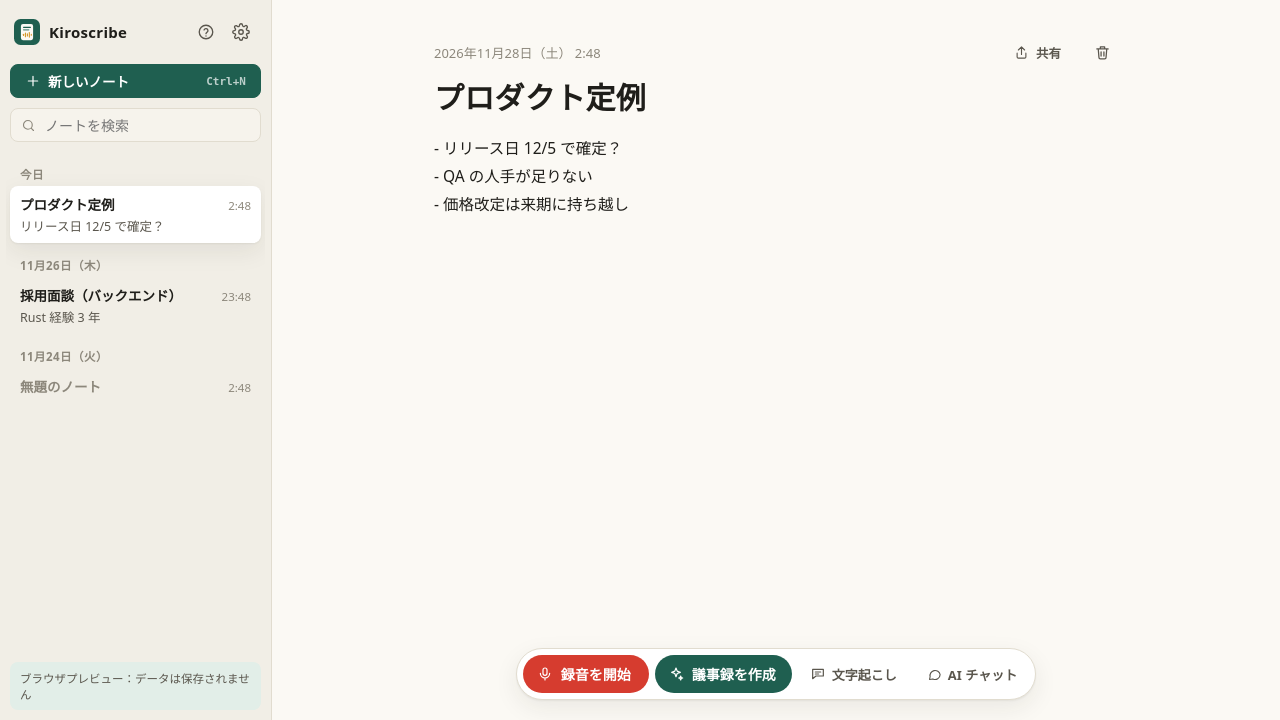
Test: 録音: 文字起こしのパネル › [TRN-020] 文字起こしがまだないときは、録音しているかどうかで案内を変える
This screenshot has width=1280, height=720.
Expected: the field showing "プロダクト定例" is shown, top-left (434, 74), bottom-right (1118, 121)
Click the button "文字起こし".
click(853, 674)  # box top-left (798, 656), bottom-right (909, 692)
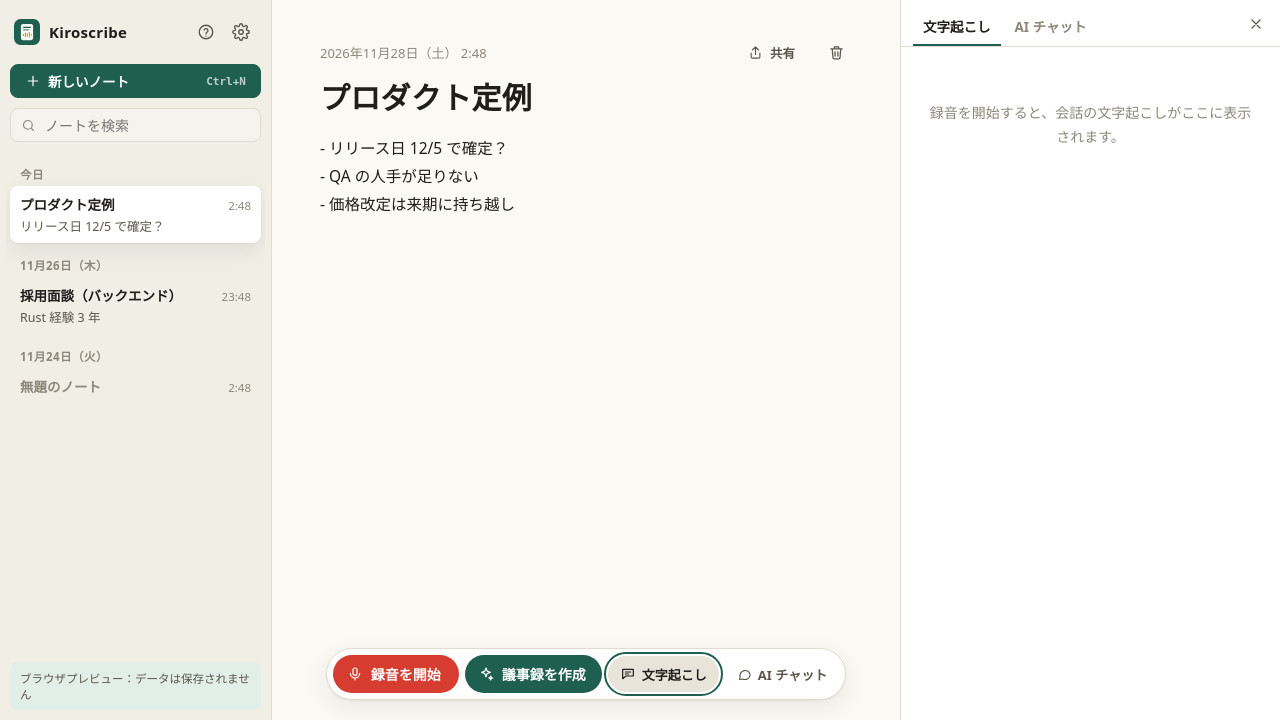
Expected: the text "ライブ" is not shown
Expected: the text "録音を開始すると、会話の文字起こしがここに表示されます。" is shown, top-left (927, 101), bottom-right (1254, 149)
Click the button "録音を開始".
click(396, 674)  # box top-left (333, 655), bottom-right (459, 693)
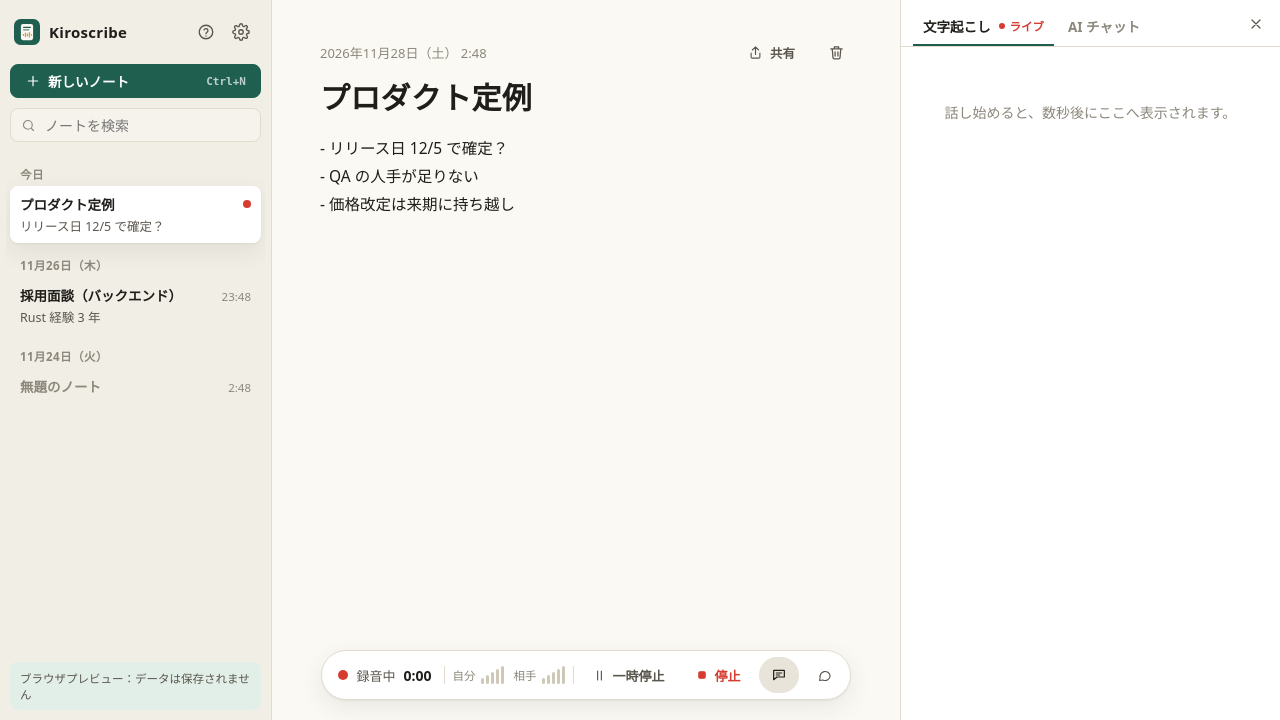
Expected: the element showing "録音中 0:00" is shown, top-left (354, 666), bottom-right (438, 684)
Expected: the text "話し始めると、数秒後にここへ表示されます。" is shown, top-left (927, 101), bottom-right (1254, 125)
